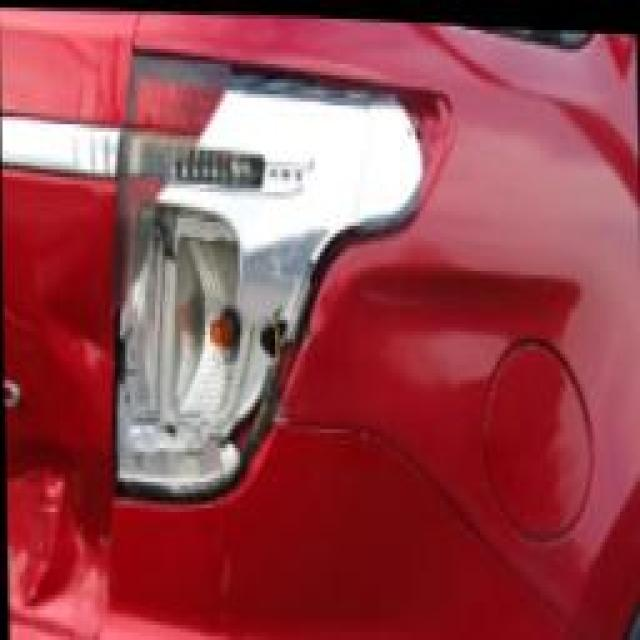Dickey: (5, 425, 102, 640)
Light: (102, 49, 381, 490)
